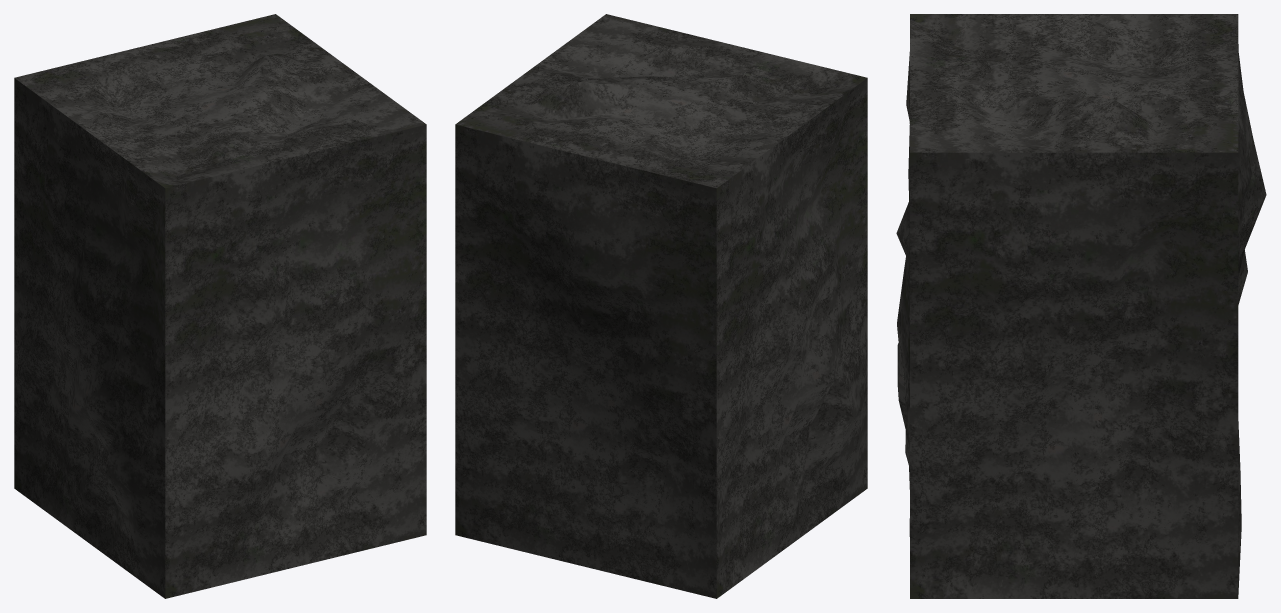
The model's file is SM_cv_wall_b.glb.
3 views of the same model, side by side, from view 1: azimuth 30°, elevation 25°; view 2: azimuth 150°, elevation 25°; view 3: azimuth 270°, elevation 25° (orthographic). The views are drawn at different scales.
Parts seen in each view (by area): view 1: SM_cv_wall_b; view 2: SM_cv_wall_b; view 3: SM_cv_wall_b.
Part boxes in pixels (x1,y1,x2,y2): SM_cv_wall_b: (14, 14, 426, 598); SM_cv_wall_b: (455, 14, 867, 598); SM_cv_wall_b: (896, 14, 1266, 598).
Bounding box in the file's own units: 4.54 × 6.24 × 4.51.
Materials: 1 (1 with a texture image).
